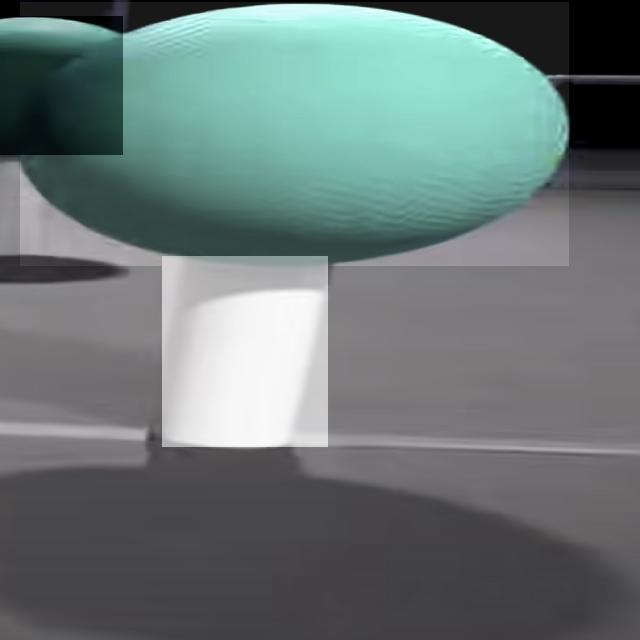Algae: (20, 2, 569, 266), (0, 16, 123, 155)
Coral: (162, 256, 328, 447)
